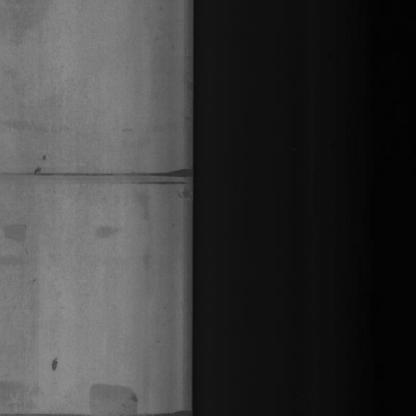crease: (14, 154, 192, 202)
